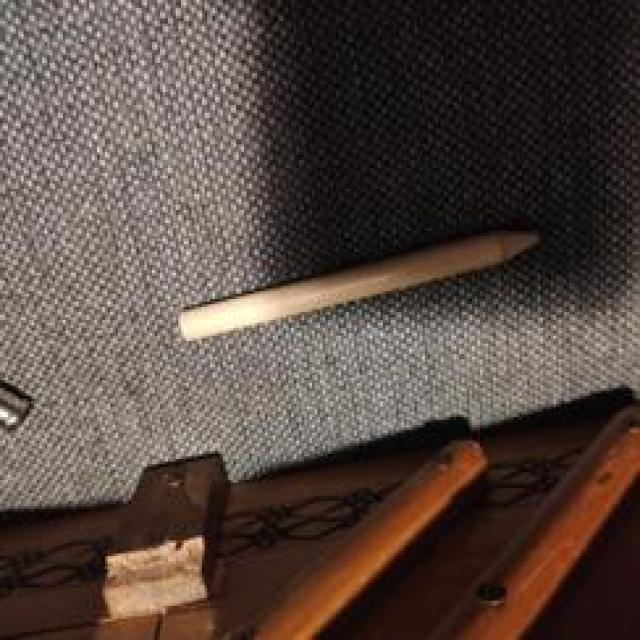pencil: (176, 226, 540, 341)
